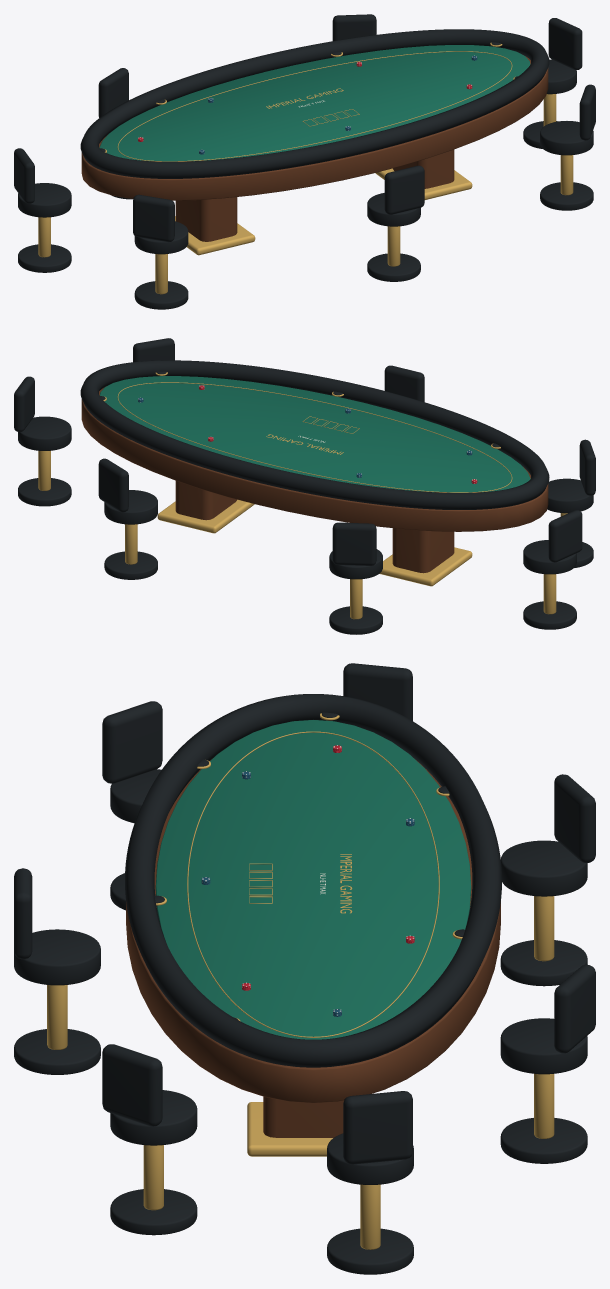
The model's file is NLHE_7.glb.
3 renders of one model, top to bottom at view 1: azimuth 30°, elevation 25°; view 2: azimuth 150°, elevation 25°; view 3: azimuth 270°, elevation 25°, orthographic. The views are drawn at different scales.
Visible parts, largest first — view 1: Emerald playing surface, Padded perimeter rail, Walnut table cabinet, Pedestal, Seat 06 backrest, Seat 00 backrest, Seat 02 backrest, Seat 01 cushion, Seat 05 cushion, Seat 06 foot, Seat 05 foot, Seat 00 foot (+18 smaller); view 2: Emerald playing surface, Padded perimeter rail, Walnut table cabinet, Pedestal, Seat 04 backrest, Pedestal.001, Seat 02 cushion, Seat 05 backrest, Seat 03 backrest, Pedestal brass shoe, Seat 06 cushion, Pedestal brass shoe.001 (+16 smaller); view 3: Emerald playing surface, Padded perimeter rail, Walnut table cabinet, Seat 02 backrest, Seat 06 backrest, Seat 01 backrest, Seat 04 cushion, Seat 00 cushion, Seat 03 cushion, Seat 02 foot, Seat 01 foot, Seat 03 foot (+17 smaller).
Boxes of the visible parts, x1,y1,x2,y2 form: Emerald playing surface: [99, 45, 530, 161]; Padded perimeter rail: [80, 29, 549, 178]; Walnut table cabinet: [81, 56, 548, 200]; Pedestal: [175, 197, 237, 241]; Seat 06 backrest: [133, 194, 174, 242]; Seat 00 backrest: [384, 165, 424, 214]; Seat 02 backrest: [548, 18, 582, 69]; Seat 01 cushion: [540, 121, 593, 155]; Seat 05 cushion: [18, 183, 71, 217]; Seat 06 foot: [134, 281, 188, 309]; Seat 05 foot: [18, 244, 71, 272]; Seat 00 foot: [367, 253, 420, 281]; Emerald playing surface: [99, 376, 530, 492]; Padded perimeter rail: [80, 360, 549, 509]; Walnut table cabinet: [81, 386, 548, 531]; Pedestal: [392, 528, 454, 573]; Seat 04 backrest: [332, 522, 376, 565]; Pedestal.001: [175, 481, 236, 520]; Seat 02 cushion: [18, 416, 71, 450]; Seat 05 backrest: [548, 510, 582, 562]; Seat 03 backrest: [98, 458, 128, 512]; Pedestal brass shoe: [379, 547, 472, 586]; Seat 06 cushion: [547, 478, 593, 513]; Pedestal brass shoe.001: [157, 499, 254, 533]; Emerald playing surface: [155, 720, 471, 1039]; Padded perimeter rail: [125, 694, 501, 1067]; Walnut table cabinet: [126, 759, 500, 1102]; Seat 02 backrest: [343, 1091, 412, 1164]; Seat 06 backrest: [102, 701, 162, 783]; Seat 01 backrest: [102, 1044, 162, 1126]; Seat 04 cushion: [500, 840, 587, 896]; Seat 00 cushion: [14, 929, 100, 985]; Seat 03 cushion: [500, 1018, 587, 1074]; Seat 02 foot: [327, 1228, 413, 1274]; Seat 01 foot: [110, 1189, 197, 1235]; Seat 03 foot: [500, 1118, 587, 1163].
Size of the model in its own units: 4.56 by 0.9175 by 2.55.
